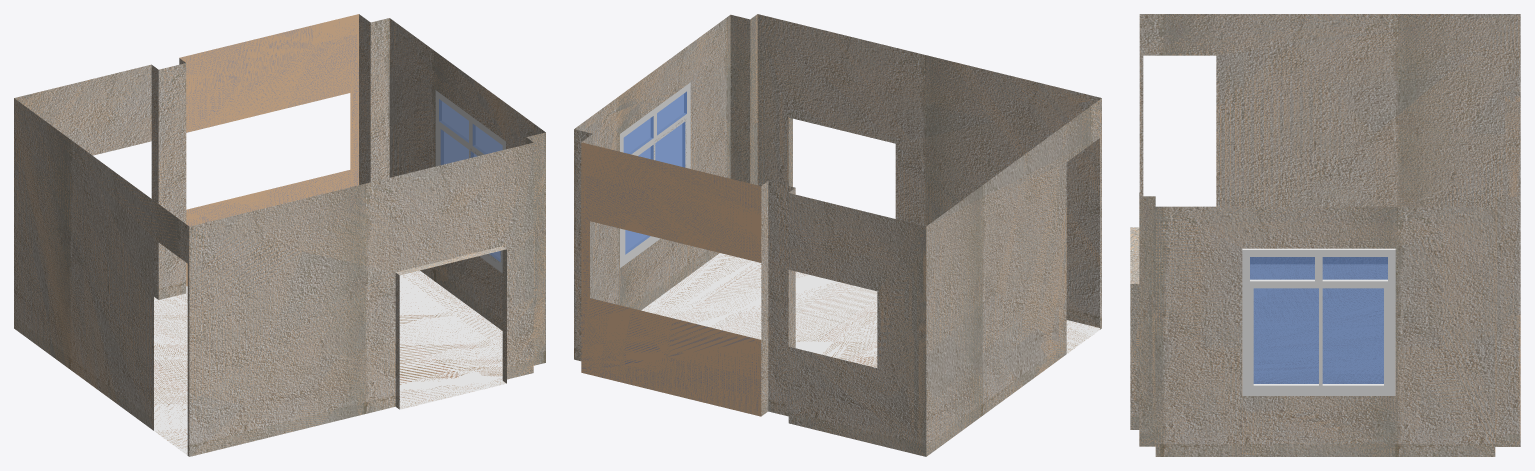
The model's file is DES018.obj.
3 renders of one model, left to right at view 1: azimuth 30°, elevation 25°; view 2: azimuth 150°, elevation 25°; view 3: azimuth 270°, elevation 25°, orthographic. The views are drawn at different scales.
Visible parts, largest first — view 1: Mesh9 CUA018 Model, Mesh1 ventana5_1 CUA018 Model; view 2: Mesh9 CUA018 Model, Mesh1 ventana5_1 CUA018 Model; view 3: Mesh9 CUA018 Model, Mesh1 ventana5_1 CUA018 Model.
Boxes of the visible parts, x1=… form: Mesh9 CUA018 Model: x1=14, y1=14, x2=545, y2=456; Mesh1 ventana5_1 CUA018 Model: x1=435, y1=90, x2=505, y2=272; Mesh9 CUA018 Model: x1=574, y1=14, x2=1101, y2=456; Mesh1 ventana5_1 CUA018 Model: x1=620, y1=82, x2=690, y2=267; Mesh9 CUA018 Model: x1=1130, y1=14, x2=1520, y2=456; Mesh1 ventana5_1 CUA018 Model: x1=1242, y1=248, x2=1395, y2=395.
Size of the model in its own units: 6 by 3.6 by 5.09.
Materials: 7 (2 with a texture image).
